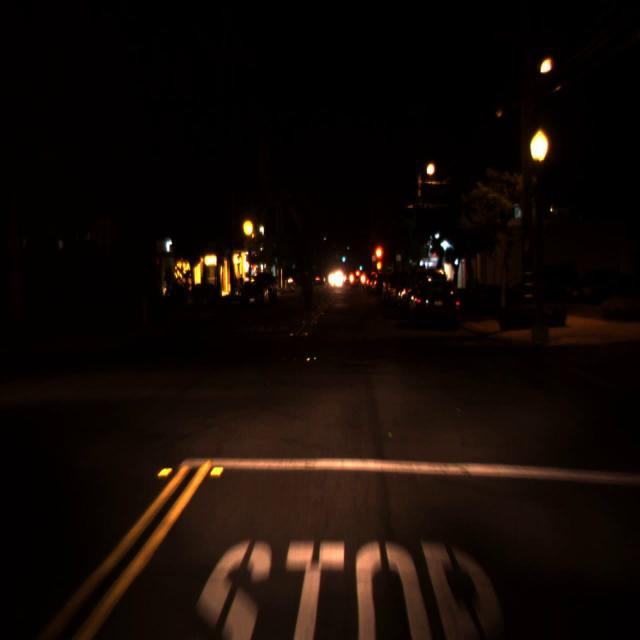go: (341, 252, 345, 264), (359, 262, 363, 270)
go traffic light: (341, 252, 345, 264), (359, 262, 363, 270)
stop: (373, 243, 385, 276)
stop traffic light: (373, 243, 385, 276)
